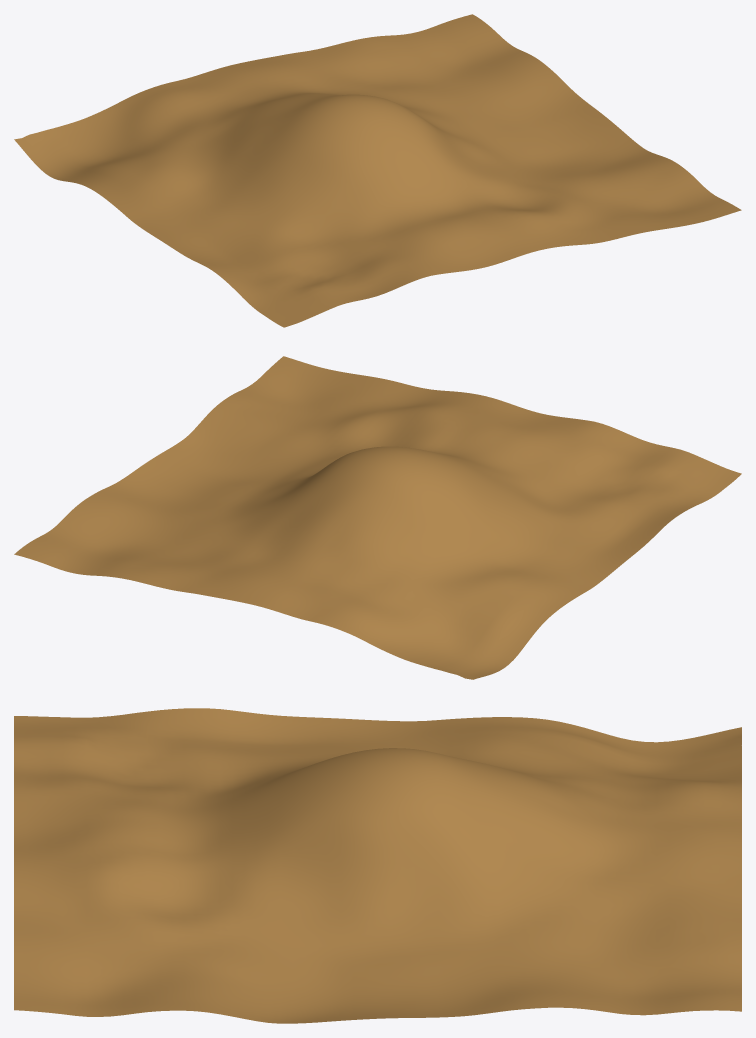
Rendered from terre_bosse_pos1.fbx.
3 views of the same model, one above another, from view 1: azimuth 30°, elevation 25°; view 2: azimuth 150°, elevation 25°; view 3: azimuth 270°, elevation 25° (orthographic). The views are drawn at different scales.
Visible parts, largest first — view 1: terre_bosse_pos1; view 2: terre_bosse_pos1; view 3: terre_bosse_pos1.
Part boxes in pixels (x1,y1,x2,y2): terre_bosse_pos1: (14,14,741,327); terre_bosse_pos1: (14,356,741,679); terre_bosse_pos1: (14,708,741,1023).
Bounding box in the file's own units: 709 × 130 × 720.
